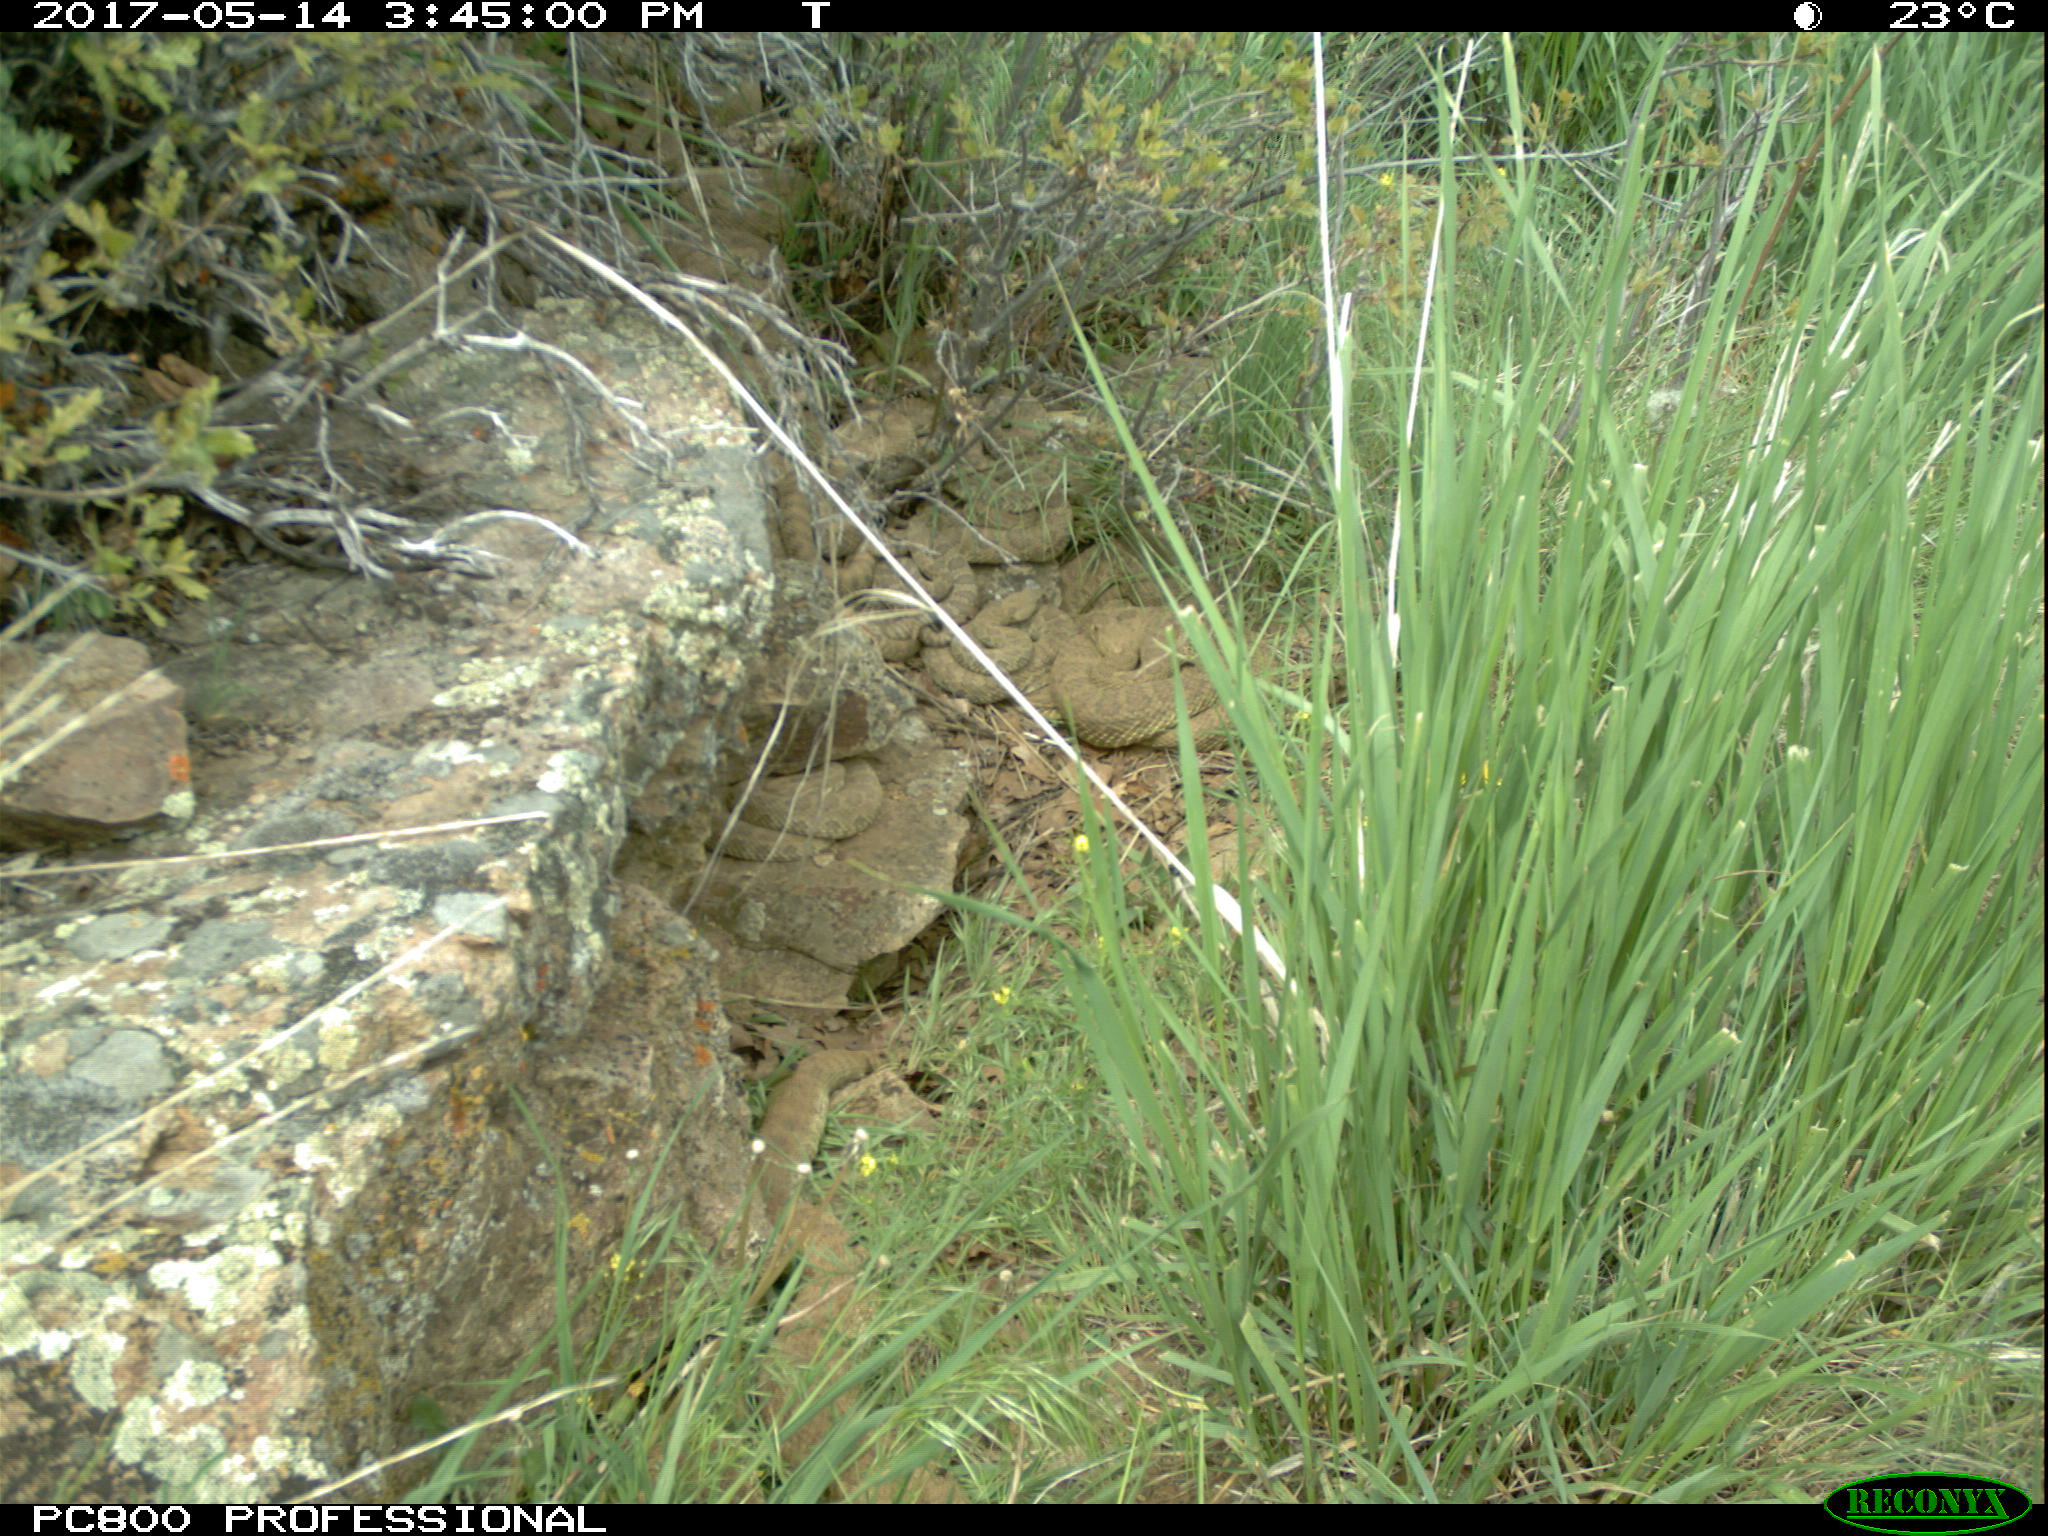snake: (748, 1044, 868, 1446), (1034, 600, 1272, 733), (681, 177, 813, 328), (951, 399, 1071, 560), (713, 760, 885, 865), (851, 529, 984, 662), (927, 574, 1043, 699), (777, 478, 900, 594), (587, 68, 685, 181)
